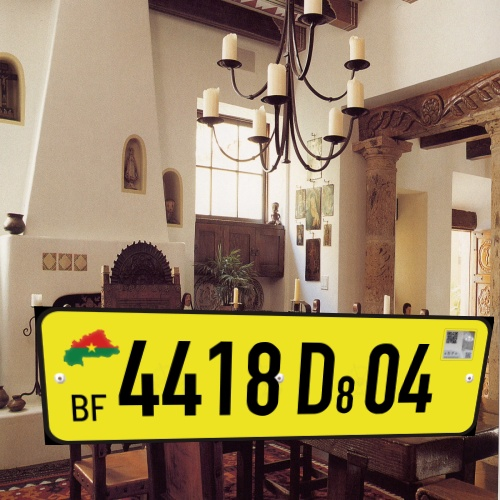plate: (24, 292, 500, 463)
